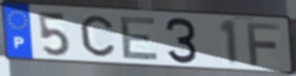1: (218, 18, 239, 67)
3: (162, 16, 198, 66)
5: (36, 10, 73, 58)
C: (79, 14, 117, 59)
E: (118, 15, 161, 61)
F: (244, 20, 283, 67)
